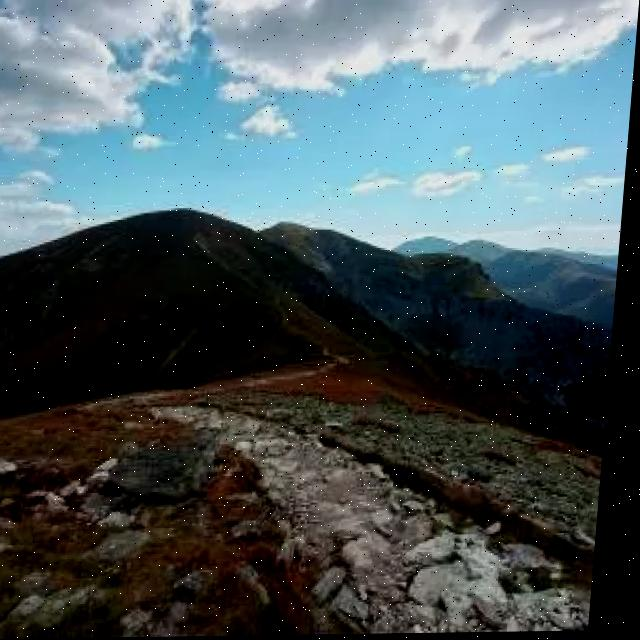Ciemniak: (382, 203, 473, 268)
Krzesanica: (245, 196, 319, 244)
Malolaczniak: (104, 155, 269, 262)
